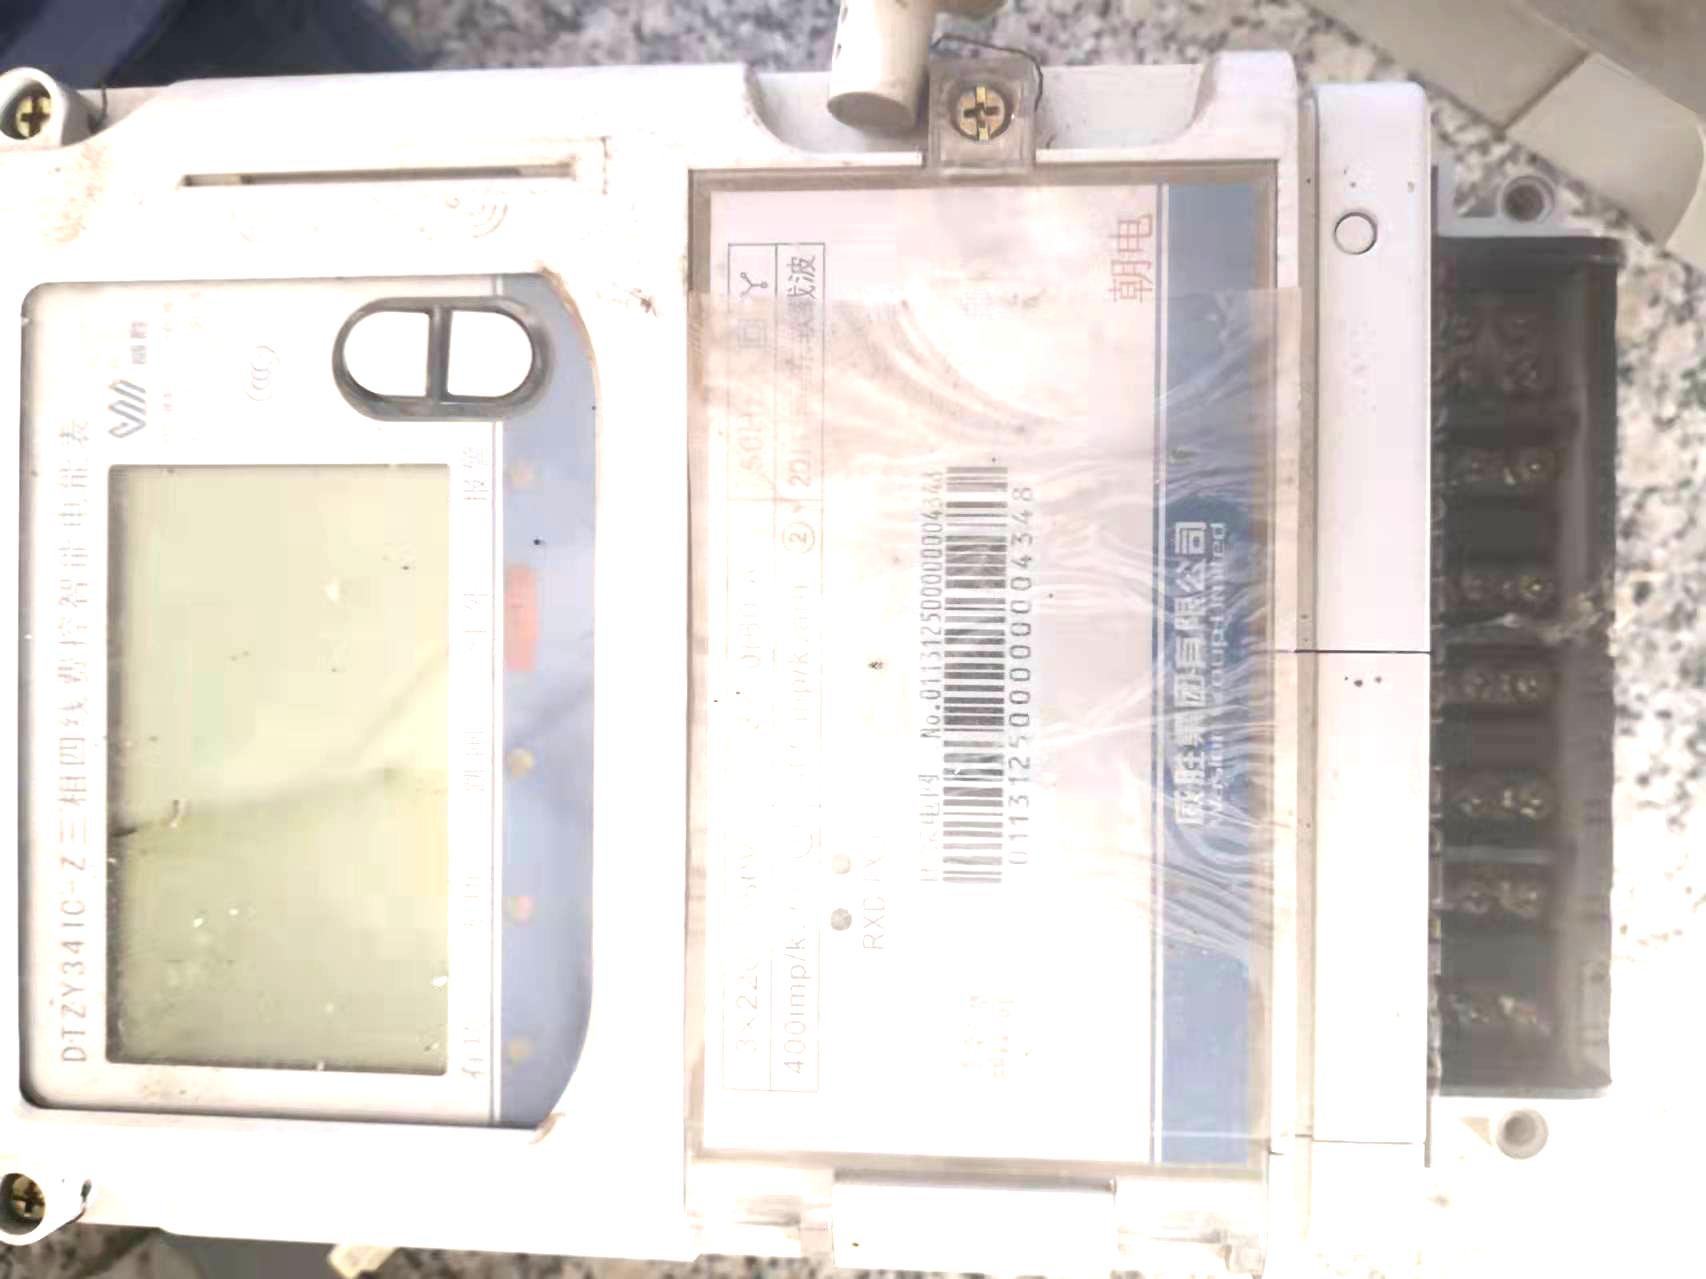digital: (5, 56, 1432, 1262)
